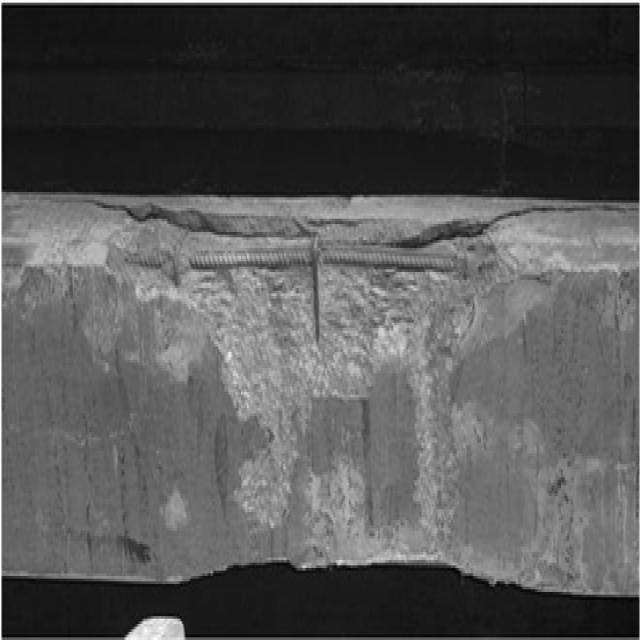Spalling: (1, 184, 640, 563)
